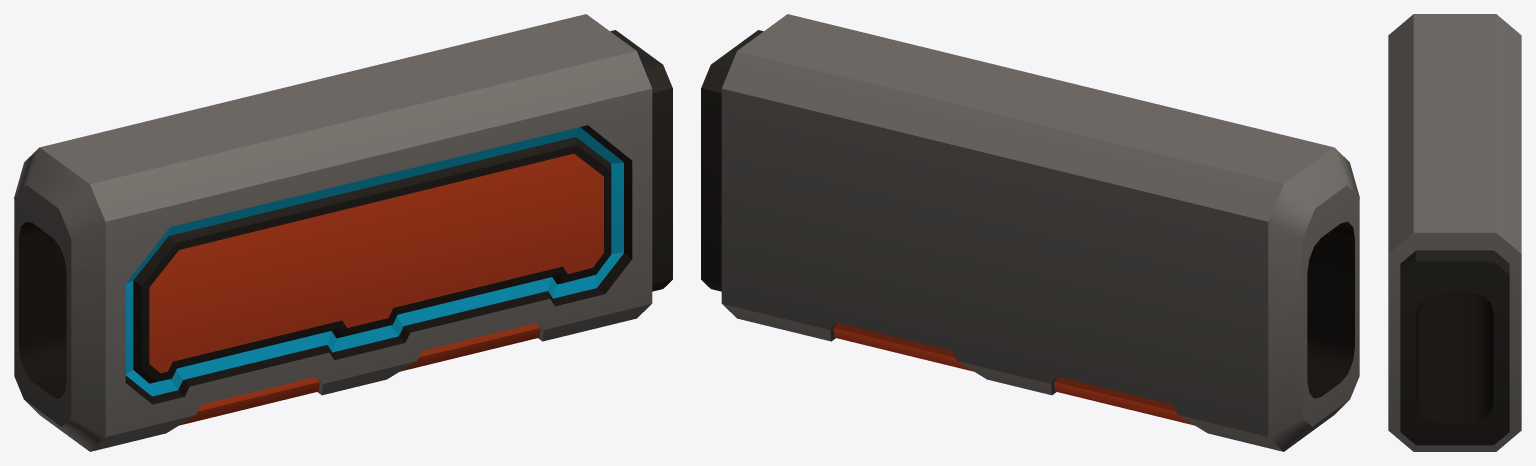
The model's file is Muzzle_Caliber3_04.fbx.
3 renders of one model, left to right at view 1: azimuth 30°, elevation 25°; view 2: azimuth 150°, elevation 25°; view 3: azimuth 270°, elevation 25°, orthographic. The views are drawn at different scales.
Parts seen in each view (by area): view 1: Muzzle_Caliber3_04; view 2: Muzzle_Caliber3_04; view 3: Muzzle_Caliber3_04.
Part boxes in pixels (bbox=[...]): Muzzle_Caliber3_04: bbox=[14, 14, 672, 451]; Muzzle_Caliber3_04: bbox=[701, 14, 1359, 451]; Muzzle_Caliber3_04: bbox=[1388, 14, 1521, 451].
Bounding box in the file's own units: 29.14 × 12.49 × 6.89.
